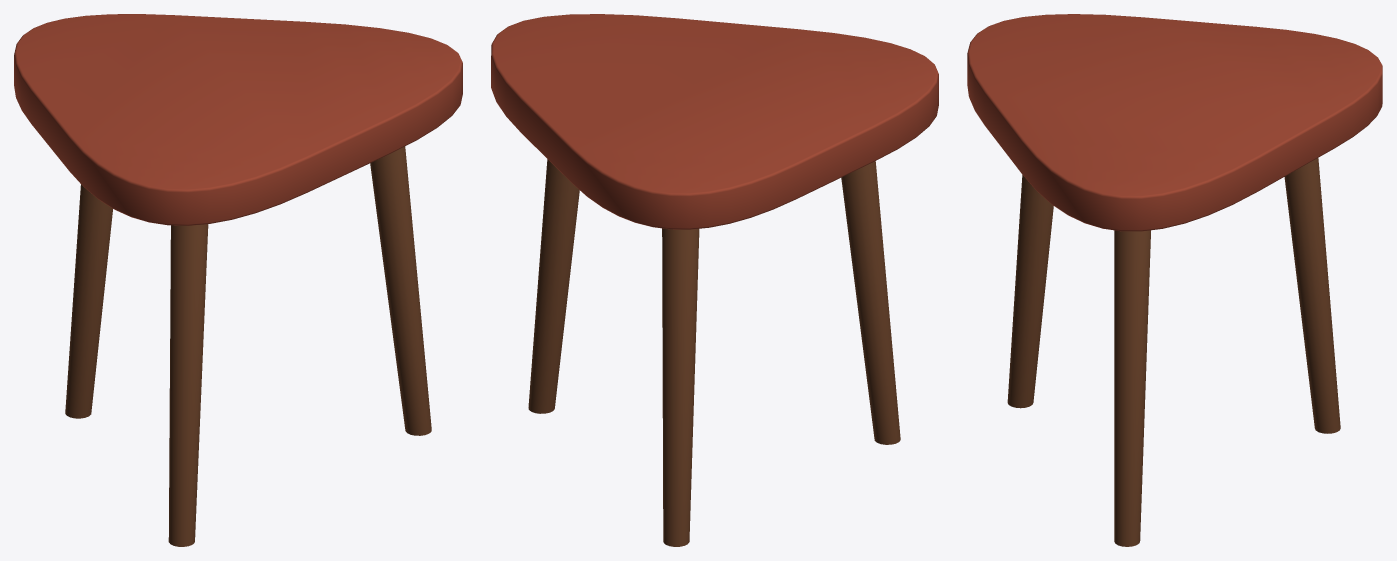
File: mesa_lateral_gota_marrom.glb
3 views of the same model, side by side, from view 1: azimuth 30°, elevation 25°; view 2: azimuth 150°, elevation 25°; view 3: azimuth 270°, elevation 25° (orthographic). The views are drawn at different scales.
Parts seen in each view (by area): view 1: mesa_lateral_gota_marrom; view 2: mesa_lateral_gota_marrom; view 3: mesa_lateral_gota_marrom.
Part boxes in pixels (x1=…): mesa_lateral_gota_marrom: x1=14, y1=14, x2=462, y2=546; mesa_lateral_gota_marrom: x1=491, y1=14, x2=938, y2=546; mesa_lateral_gota_marrom: x1=967, y1=14, x2=1382, y2=546.
Bounding box in the file's own units: 0.4998 × 0.46 × 0.4778.
1 material, 1 textured.
